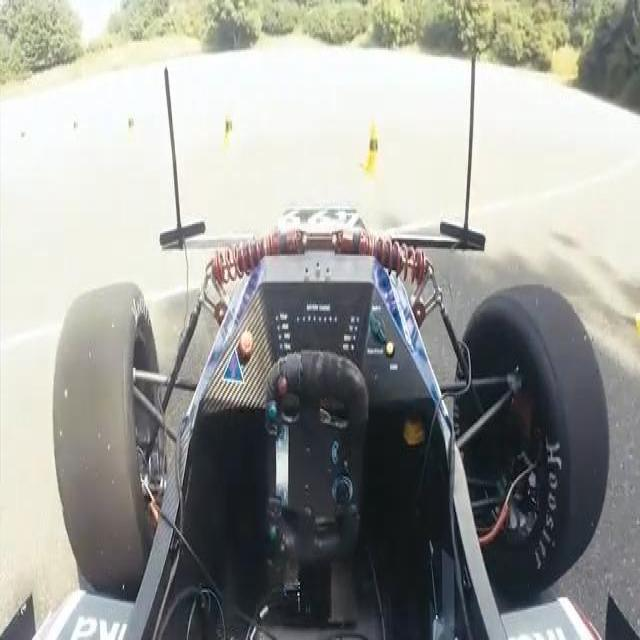yellow_cone: (359, 121, 388, 170)
